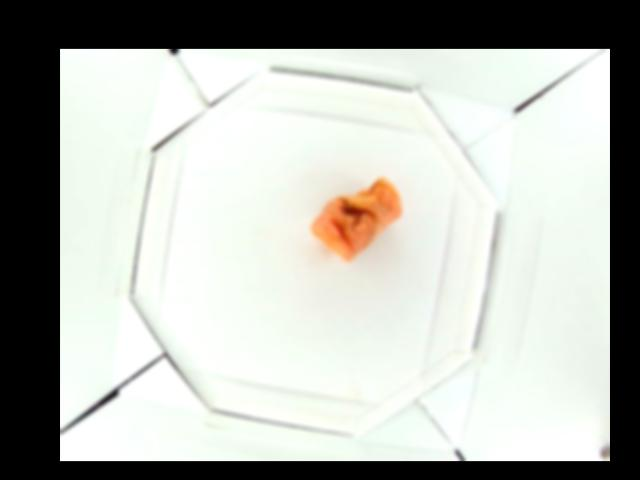Carrot: (312, 177, 402, 262)
